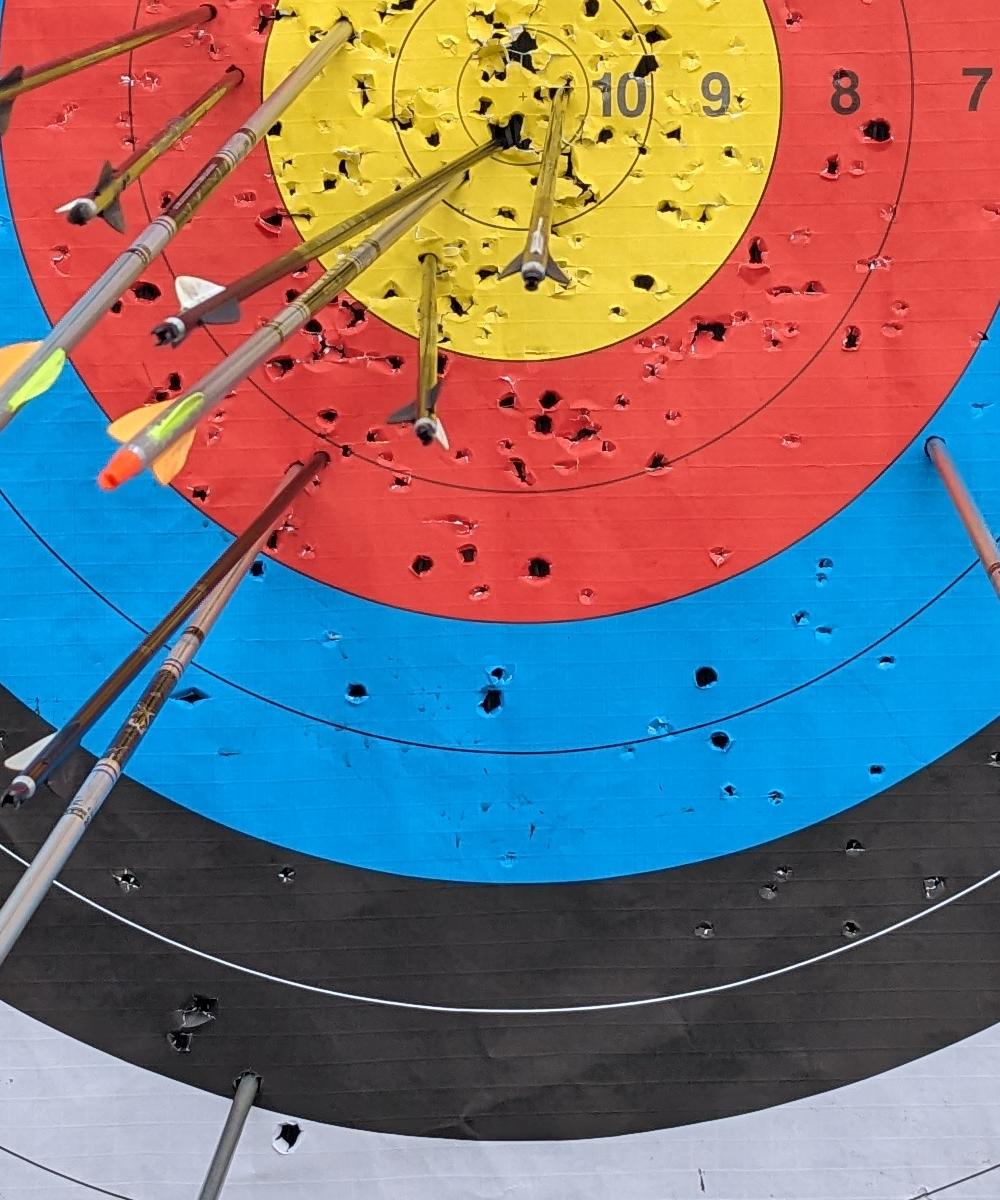10-Ring: (393, 0, 653, 231)
7-Ring: (0, 0, 1000, 622)
8-Ring: (133, 0, 909, 491)
9-Ring: (263, 0, 780, 361)
Arrow: (0, 7, 377, 435), (74, 114, 471, 520), (0, 454, 311, 965), (0, 446, 366, 835), (132, 131, 529, 358), (53, 44, 260, 257), (376, 254, 450, 455), (497, 91, 568, 291)
